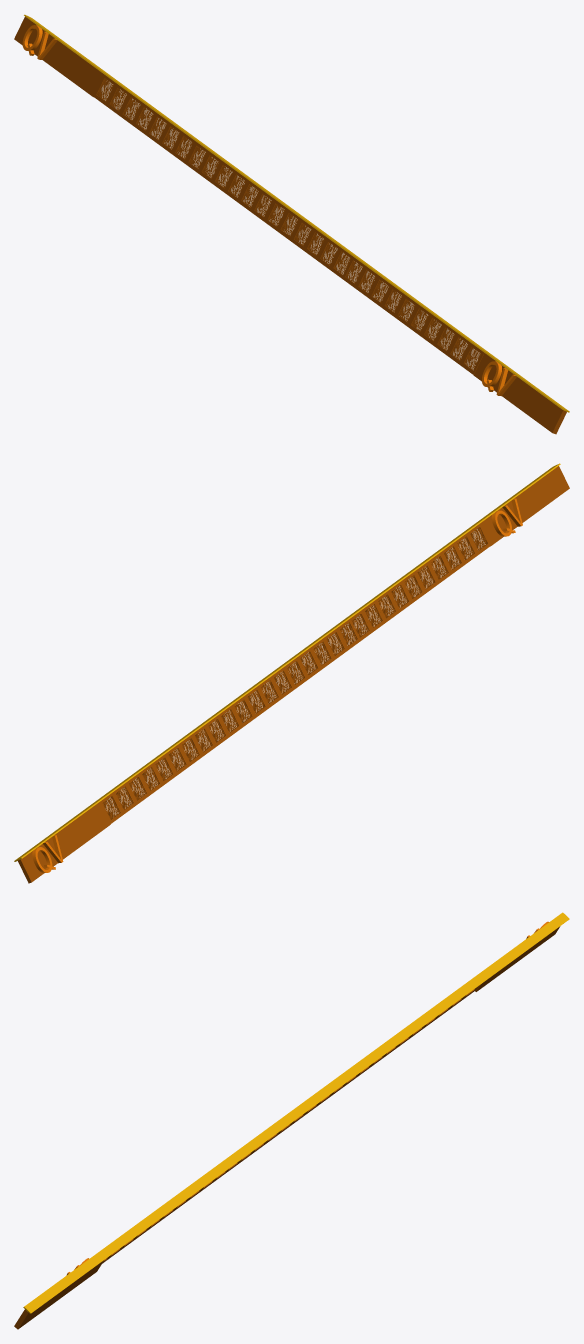
Rendered from qv railing.fbx.
3 views of the same model, one above another, from view 1: azimuth 30°, elevation 25°; view 2: azimuth 150°, elevation 25°; view 3: azimuth 330°, elevation 25° (orthographic).
Parts seen in each view (by area): view 1: qv_railing:qvrailing, pCube1, typeMesh1, typeMesh2; view 2: qv_railing:qvrailing, pCube1, typeMesh1, typeMesh2; view 3: pCube1, qv_railing:qvrailing.
Boxes of the visible parts, x1,y1,x2,y2 form: qv_railing:qvrailing: (14,16,566,434); pCube1: (24,14,569,412); typeMesh1: (482,361,516,395); typeMesh2: (22,25,57,59); qv_railing:qvrailing: (18,466,569,883); pCube1: (14,463,560,861); typeMesh1: (491,498,522,536); typeMesh2: (32,835,63,873); pCube1: (23,912,569,1313); qv_railing:qvrailing: (14,926,560,1329).
Bounding box in the file's own units: 91.79 × 98.91 × 3906.
